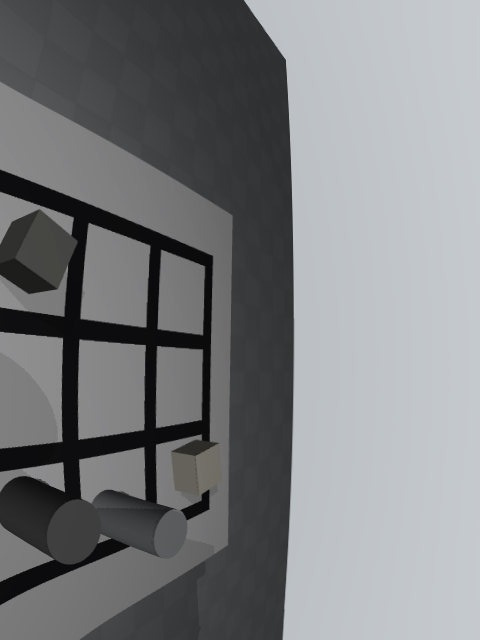can: (92, 490, 188, 559)
cube: (0, 209, 78, 294)
cylinder: (0, 476, 101, 565)
foam: (171, 440, 222, 496)
